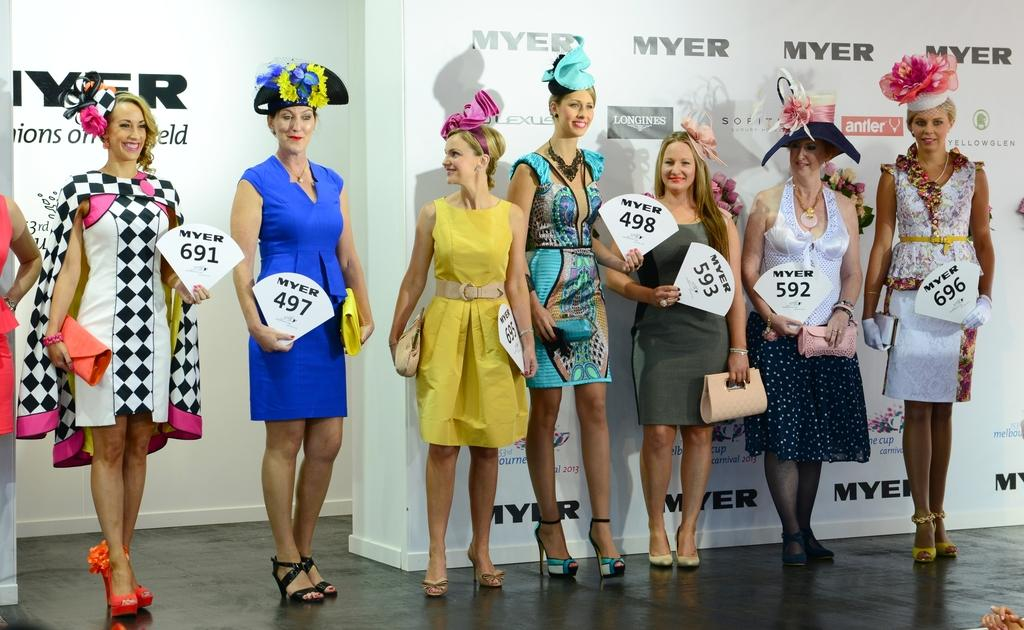Sem Máscara: (102, 98, 143, 159), (271, 102, 314, 154), (442, 133, 481, 182), (553, 88, 592, 136), (662, 138, 695, 192), (909, 107, 949, 150), (789, 137, 826, 179)
